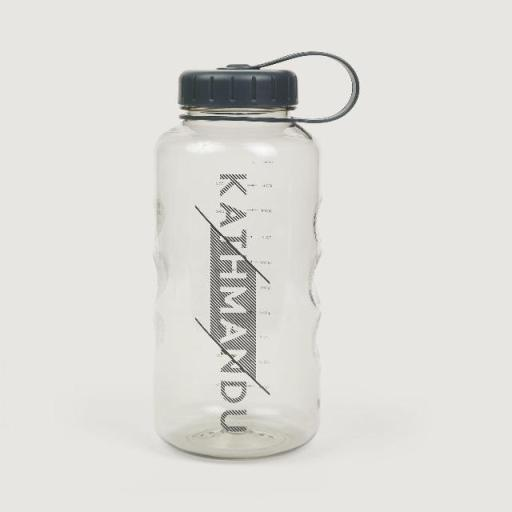bottle: (154, 64, 324, 462)
